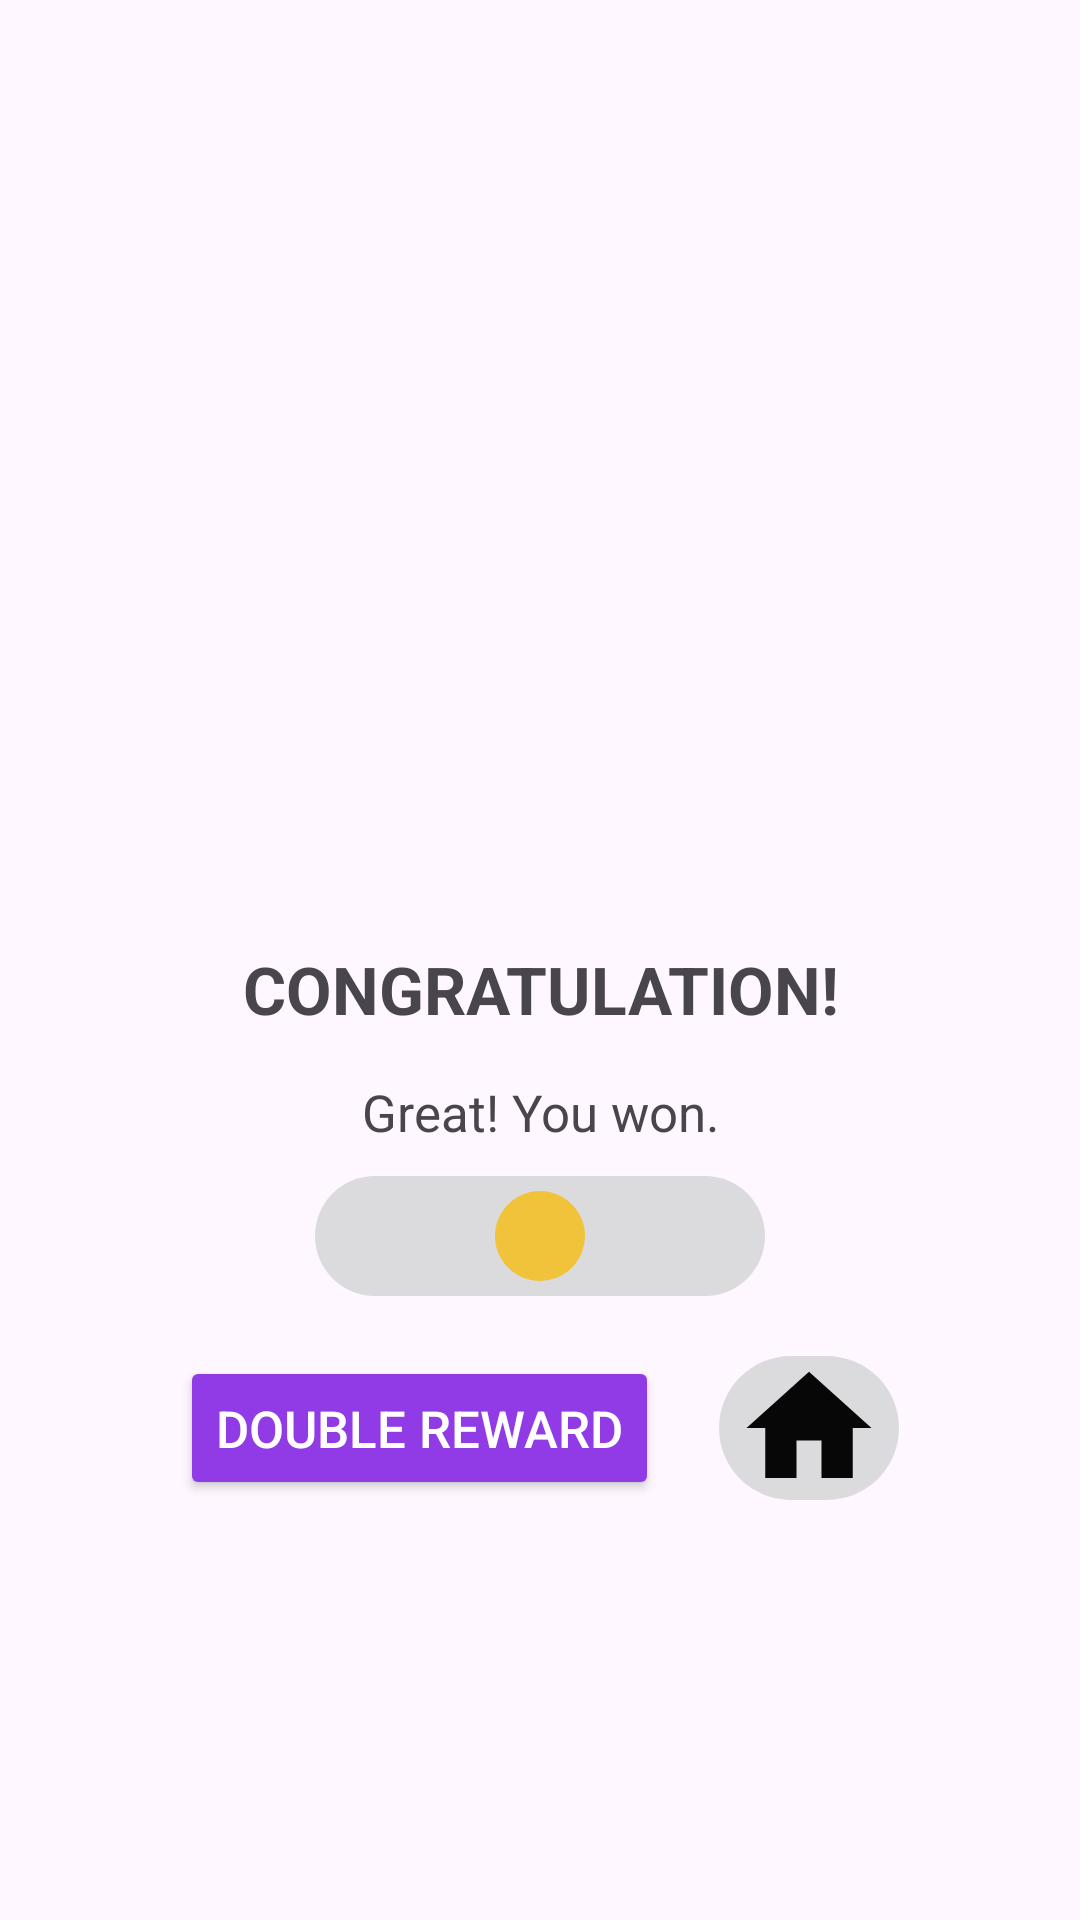

Icon click points for this 1080×1920 phone screenshot, format (x,y):
home: (809,1428)
